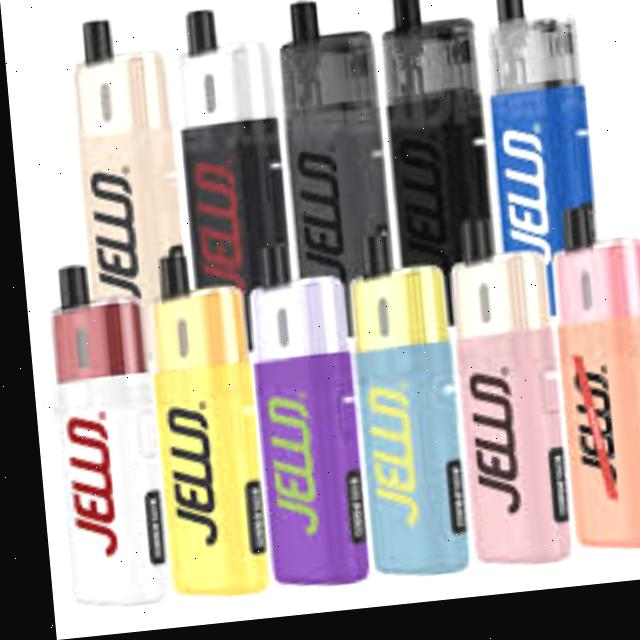vape: (34, 257, 162, 614), (235, 246, 359, 601), (336, 226, 457, 587), (440, 222, 561, 580), (142, 245, 259, 607), (63, 11, 186, 309), (541, 212, 640, 570), (172, 6, 288, 298), (372, 0, 491, 281), (276, 0, 386, 286), (478, 0, 591, 269)
